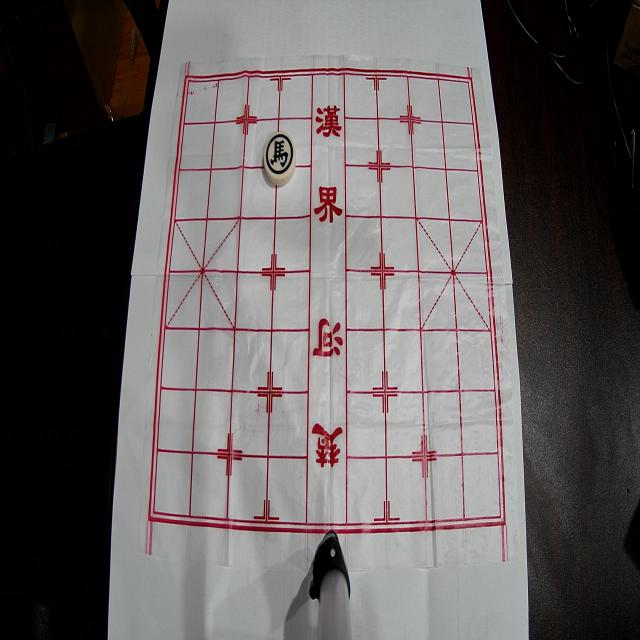black-horse: (264, 132, 296, 186)
